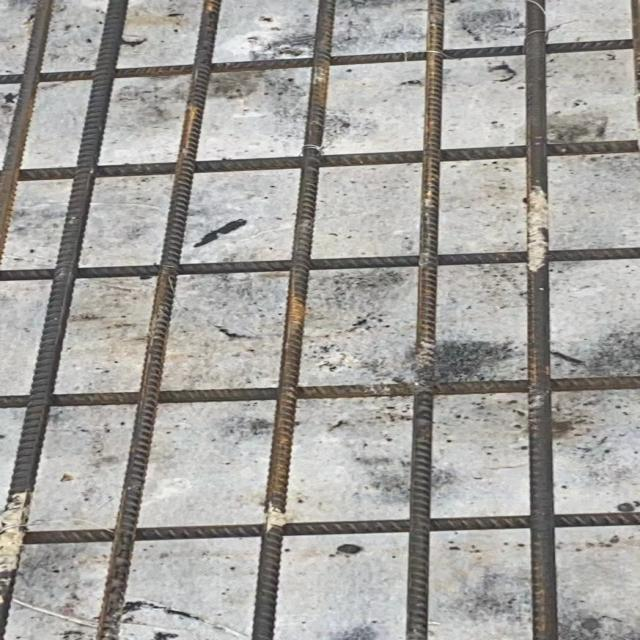ribbed bar: (0, 0, 130, 639), (93, 0, 222, 639), (250, 0, 336, 639), (0, 39, 632, 84), (20, 139, 638, 182), (402, 0, 443, 639), (0, 247, 639, 283), (525, 0, 560, 639), (24, 512, 639, 546), (0, 377, 639, 409), (0, 0, 55, 264)
